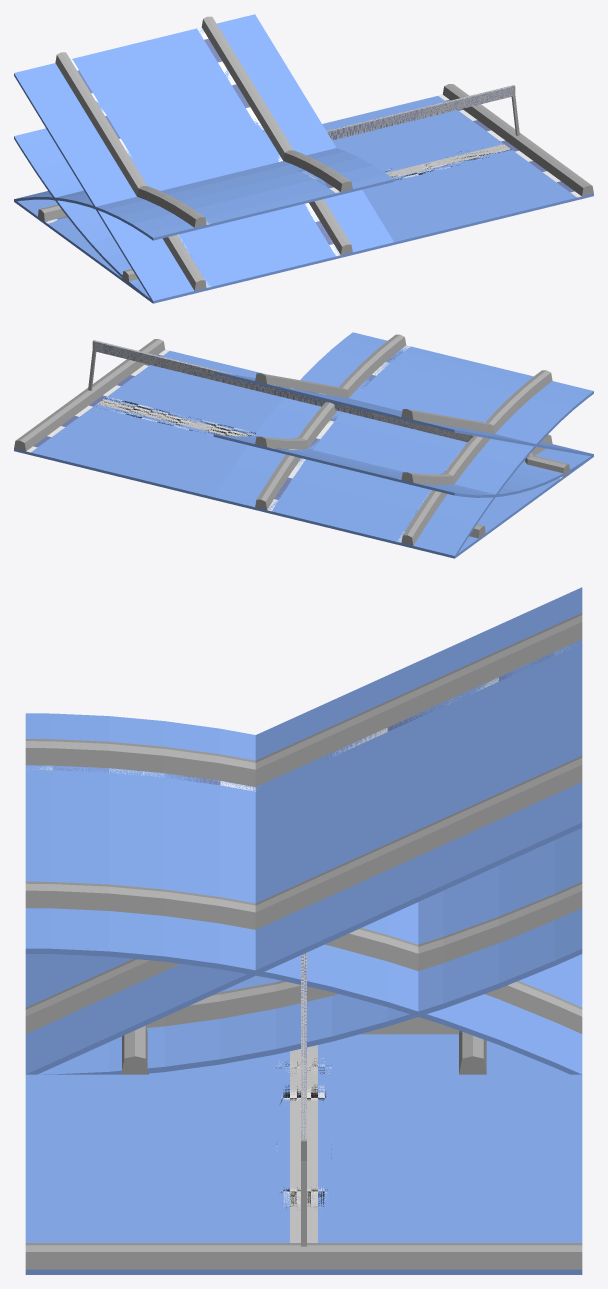
Rendered from road_wide.glb.
3 views of the same model, one above another, from view 1: azimuth 30°, elevation 25°; view 2: azimuth 150°, elevation 25°; view 3: azimuth 270°, elevation 25° (orthographic). The views are drawn at different scales.
Visible parts, largest first — view 1: SlopeRightWide, SlopeLeftWide, CheckpointWide, SlopeDownRightWide, SlopeDownLeftWide, FinishWide, SlopeUpRightWide, InnerCornerWide, StraightWide, ToWideDouble, ToWideDiagonal, ToWideRight (+1 smaller); view 2: SlopeDownRightWide, CheckpointWide, SlopeDownLeftWide, FinishWide, SlopeUpRightWide, SlopeRightWide, SlopeUpLeftWide, SlopeLeftWide, ToWideMiddle, ToWideLeft, ToWideRight, StraightWide (+1 smaller); view 3: CheckpointWide, SlopeLeftWide, SlopeDownLeftWide, SlopeRightWide, SlopeDownRightWide, FinishWide, SlopeUpLeftWide, SlopeUpRightWide, InnerCornerWide, OuterCornerWide, ToWideRight.
Part boxes in pixels (<box>): SlopeRightWide: <box>14,16,351,301</box>; SlopeLeftWide: <box>55,14,393,290</box>; CheckpointWide: <box>211,84,593,289</box>; SlopeDownRightWide: <box>14,150,352,240</box>; SlopeDownLeftWide: <box>137,148,394,229</box>; FinishWide: <box>326,86,526,218</box>; SlopeUpRightWide: <box>14,128,151,301</box>; InnerCornerWide: <box>14,201,349,303</box>; StraightWide: <box>14,199,352,303</box>; ToWideDouble: <box>38,204,127,284</box>; ToWideDiagonal: <box>41,221,152,302</box>; ToWideRight: <box>17,199,128,285</box>; SlopeDownRightWide: <box>256,334,593,555</box>; CheckpointWide: <box>14,339,473,499</box>; SlopeDownLeftWide: <box>214,332,552,545</box>; FinishWide: <box>38,341,469,490</box>; SlopeUpRightWide: <box>255,436,593,497</box>; SlopeRightWide: <box>255,373,593,456</box>; SlopeUpLeftWide: <box>213,434,545,484</box>; SlopeLeftWide: <box>213,371,552,443</box>; ToWideMiddle: <box>385,452,569,557</box>; ToWideLeft: <box>213,497,413,548</box>; ToWideRight: <box>255,473,569,558</box>; StraightWide: <box>398,454,593,558</box>; CheckpointWide: <box>25,953,582,1274</box>; SlopeLeftWide: <box>25,613,582,1074</box>; SlopeDownLeftWide: <box>25,739,582,1074</box>; SlopeRightWide: <box>25,587,582,1033</box>; SlopeDownRightWide: <box>25,713,582,1033</box>; FinishWide: <box>136,953,554,1242</box>; SlopeUpLeftWide: <box>38,831,582,1074</box>; SlopeUpRightWide: <box>146,828,582,1027</box>; InnerCornerWide: <box>121,1025,487,1074</box>; OuterCornerWide: <box>459,1031,486,1074</box>; ToWideRight: <box>360,1017,459,1034</box>.
Bounding box in the file's own units: 36.57 × 10.94 × 20.
